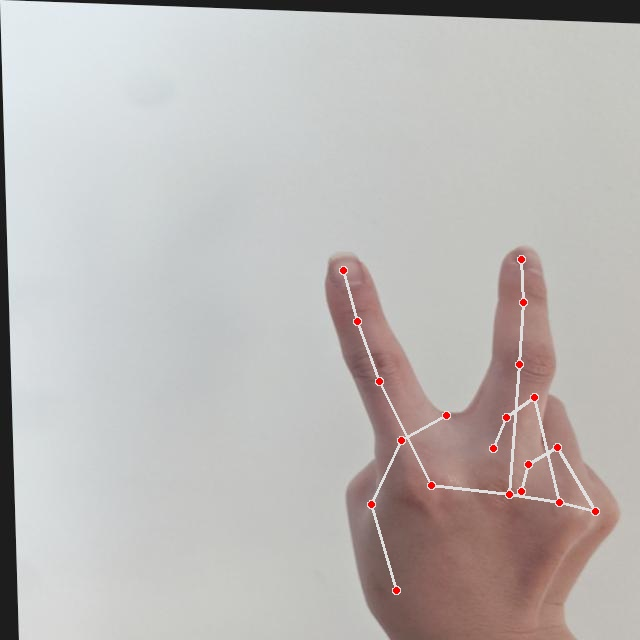V: (313, 231, 630, 639)
